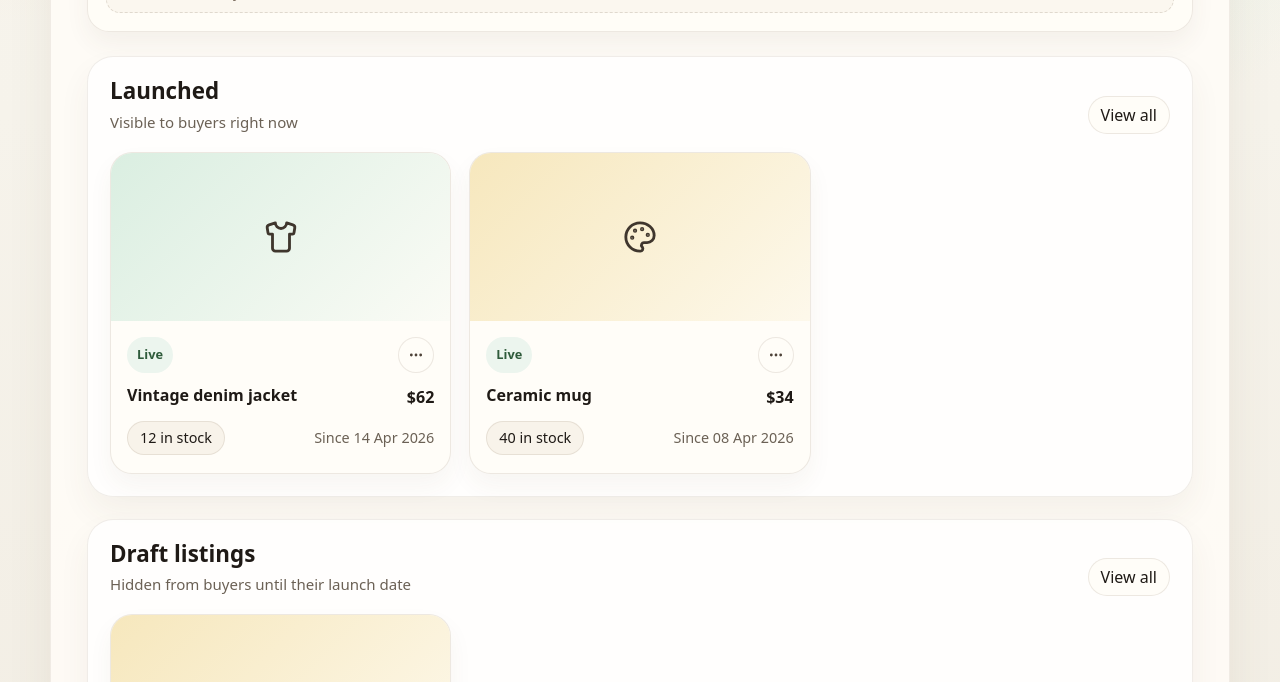
Test: InventoryPrototypePage › opens the shared editor in edit mode from a product card
(page scrolled)
Expected: the heading "Ceramic mug" is shown, [486,384,592,404]
Click the button named "edit ceramic mug".
click(776, 354)  # box [758,336,794,372]
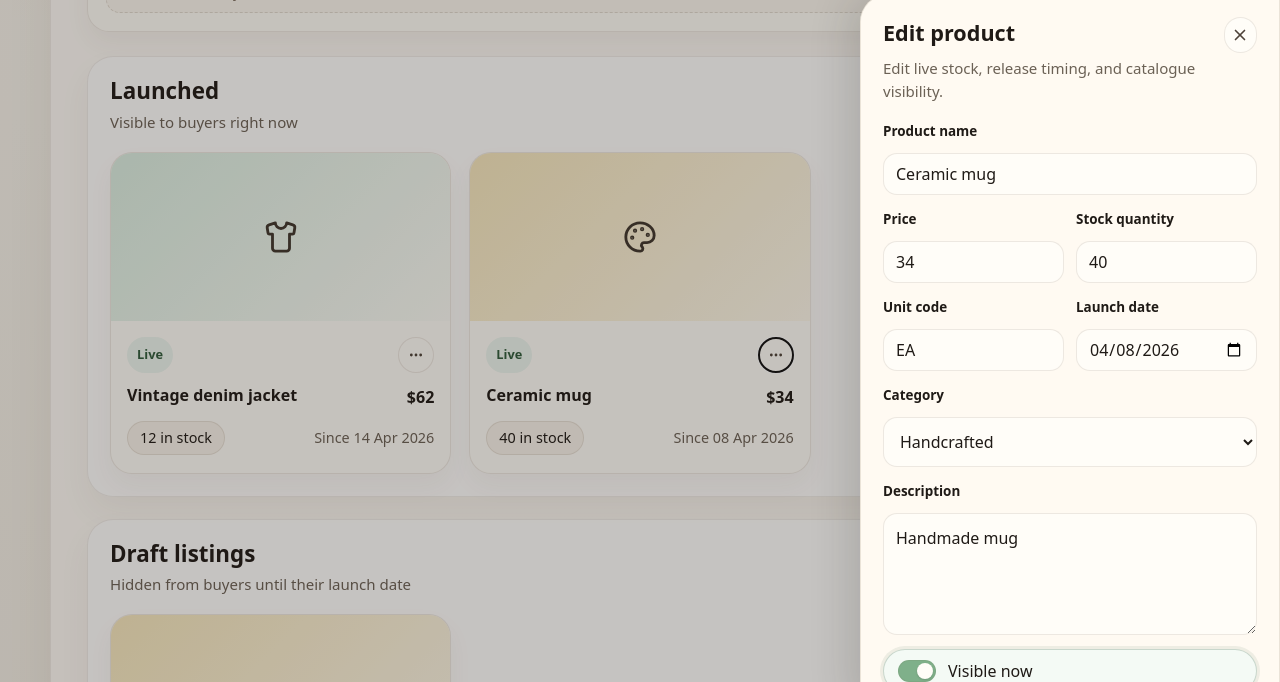
Result: the heading "Edit product" is shown at [883,18,1015,47]
Result: the field labelled "Product name" holds "Ceramic mug" at [883,153,1257,195]
